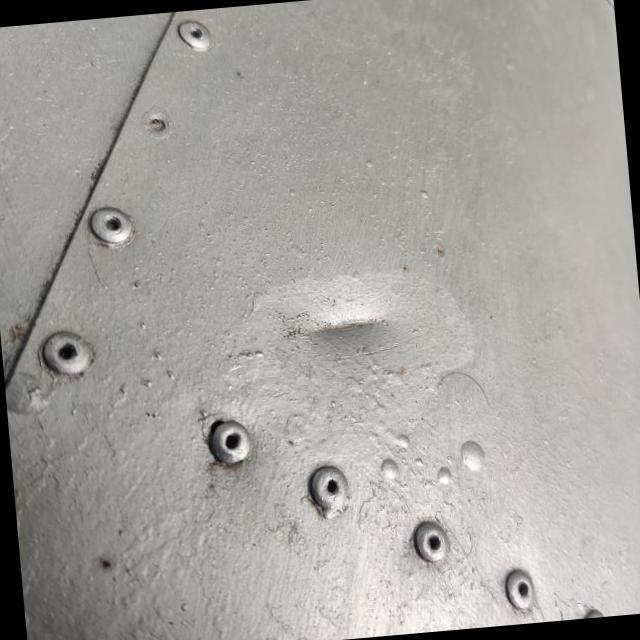Dent: (247, 270, 426, 382)
